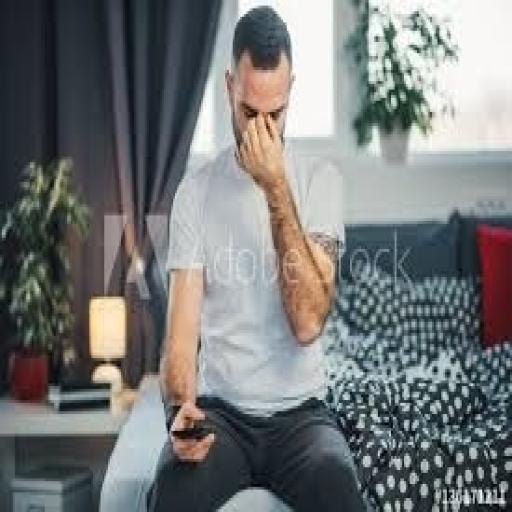texting: (145, 3, 367, 509)
